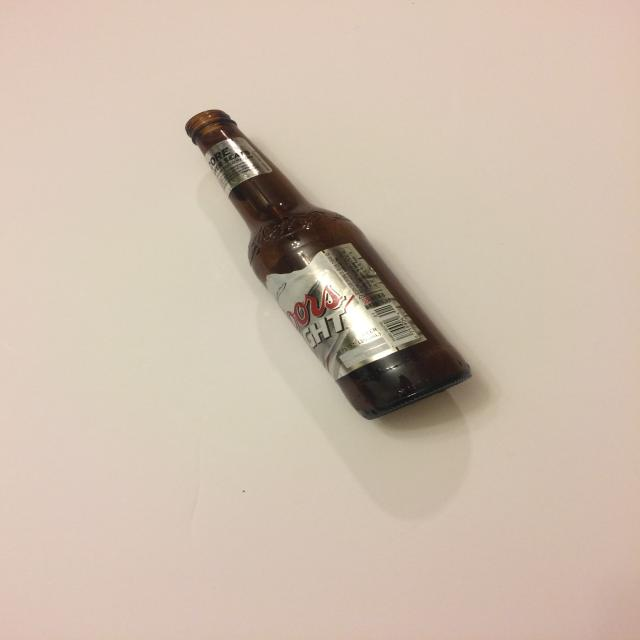glass: (184, 108, 473, 421)
